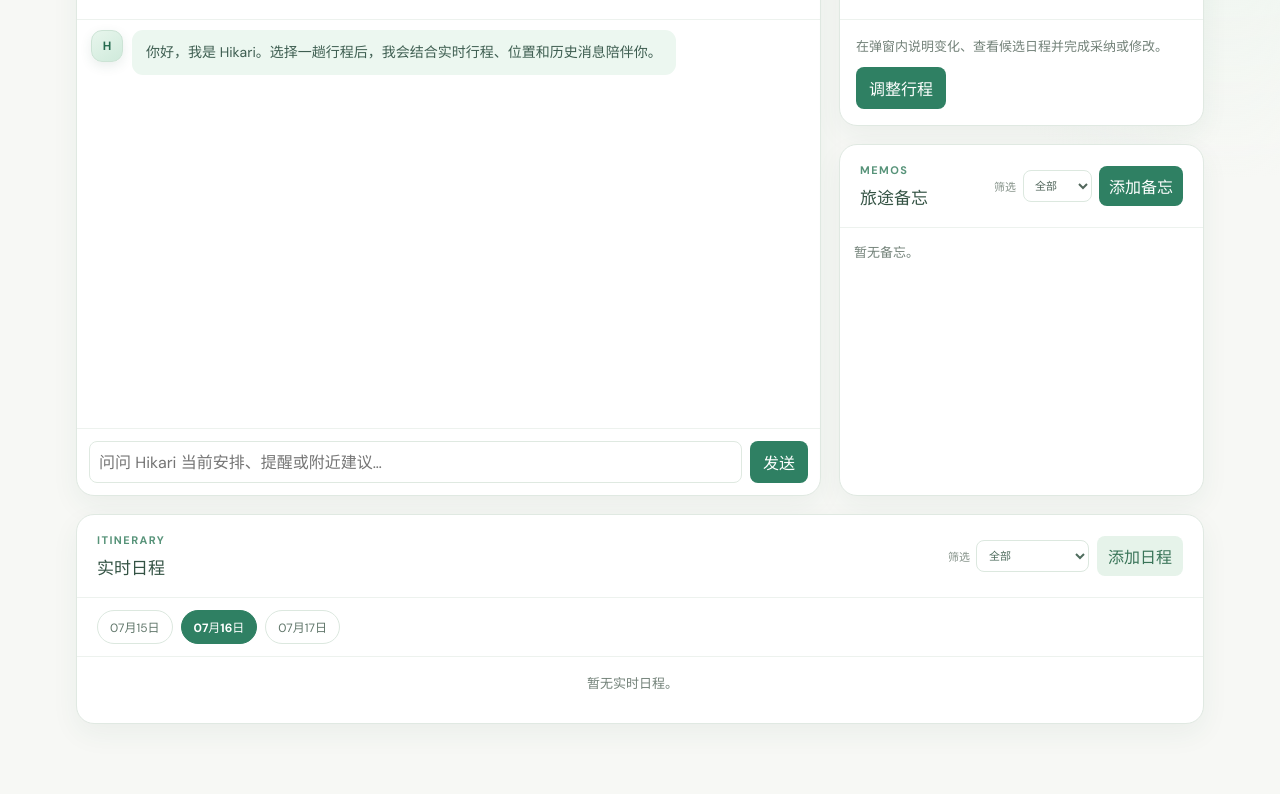
Test case: Companion adjustment dialog › prevents the same message from being submitted twice while pending
(page scrolled)
Type "介绍一下天津工业大学" into the field with placeholder "问问 Hikari 当前安排、提醒或附近建议…" at (416, 462), box [89,441,742,483]
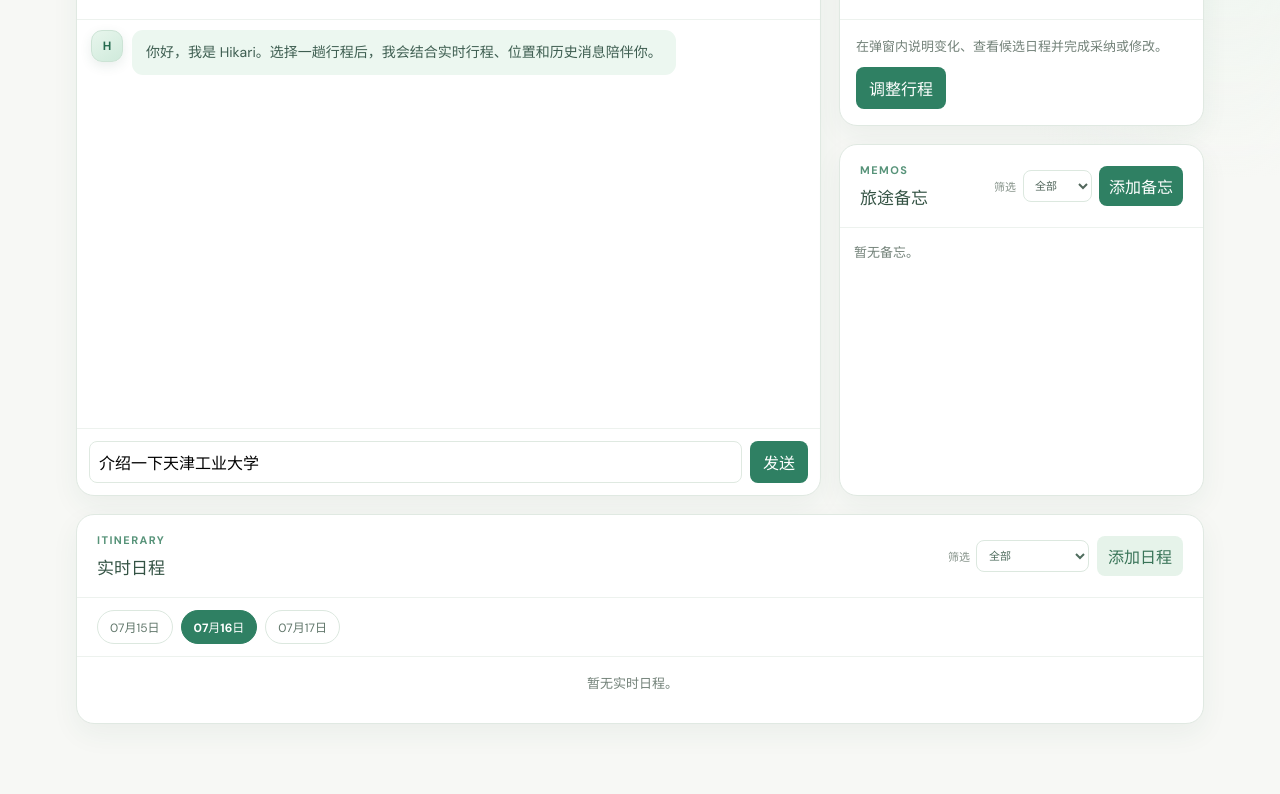
Submit the form with class "composer", box [77,428,820,495]
Submit the form with class "composer", box [77,428,820,495]
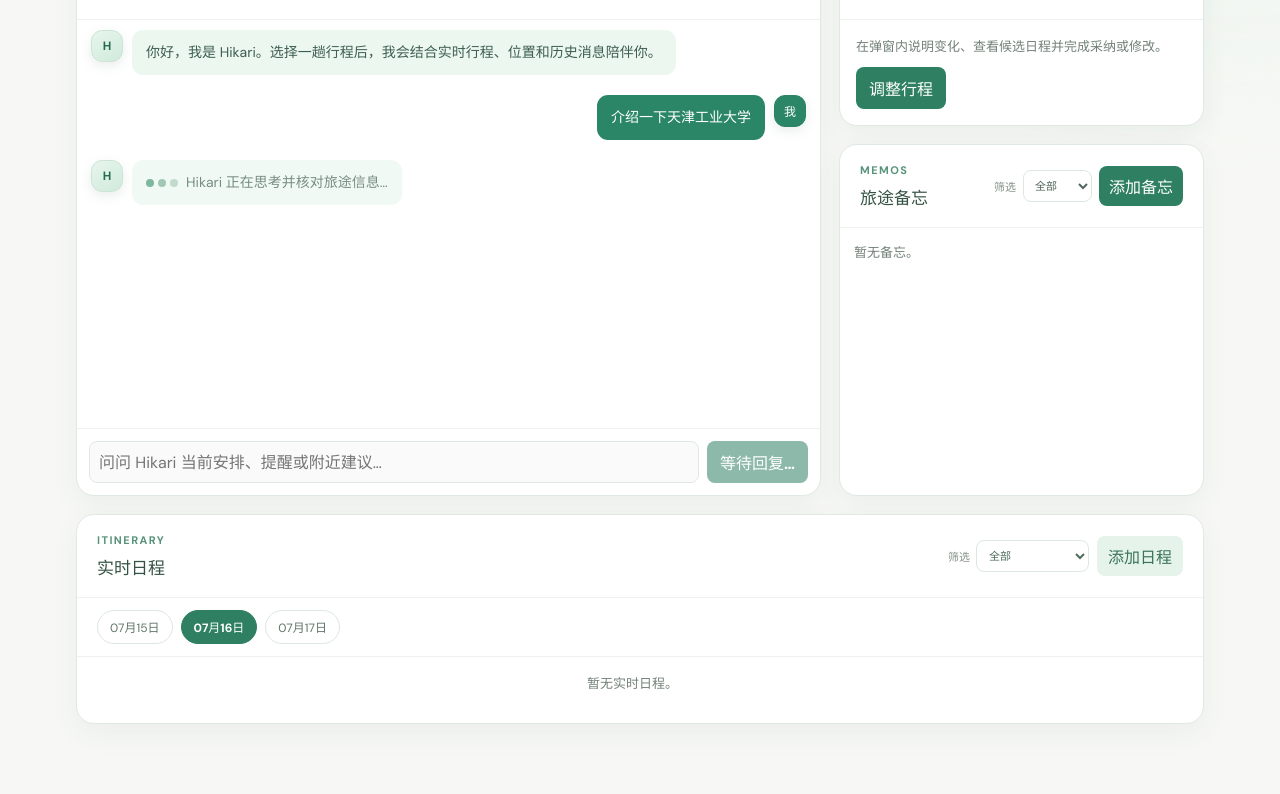
Expected: the button "等待回复…" is shown, [707,441,808,483]
Expected: the text "Hikari 正在思考并核对旅途信息" is shown, [186,173,388,191]
